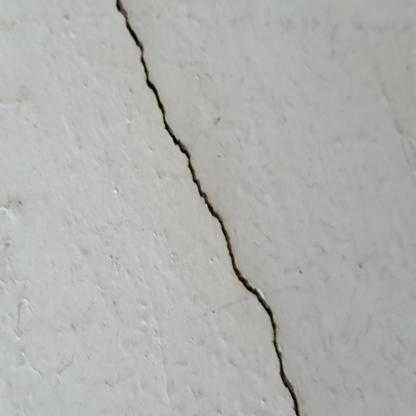crack: (116, 0, 299, 414)
